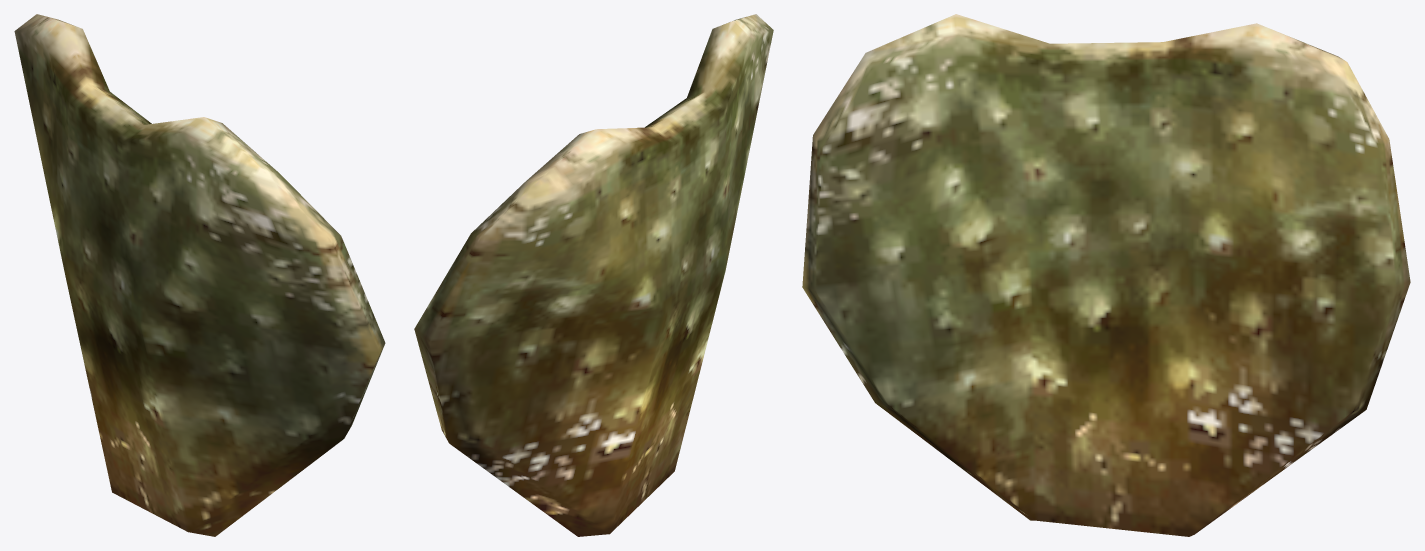
Rendered from OZ_02_mi_grass08B.glb.
3 renders of one model, left to right at view 1: azimuth 30°, elevation 25°; view 2: azimuth 150°, elevation 25°; view 3: azimuth 270°, elevation 25°, orthographic. The views are drawn at different scales.
Visible parts, largest first — view 1: OM_02_mi_grass08B; view 2: OM_02_mi_grass08B; view 3: OM_02_mi_grass08B.
Boxes of the visible parts, x1=… form: OM_02_mi_grass08B: x1=14, y1=14, x2=385, y2=536; OM_02_mi_grass08B: x1=414, y1=14, x2=773, y2=536; OM_02_mi_grass08B: x1=802, y1=14, x2=1410, y2=536.
Size of the model in its own units: 0.6064 by 1.68 by 1.87.
1 material, 1 textured.
